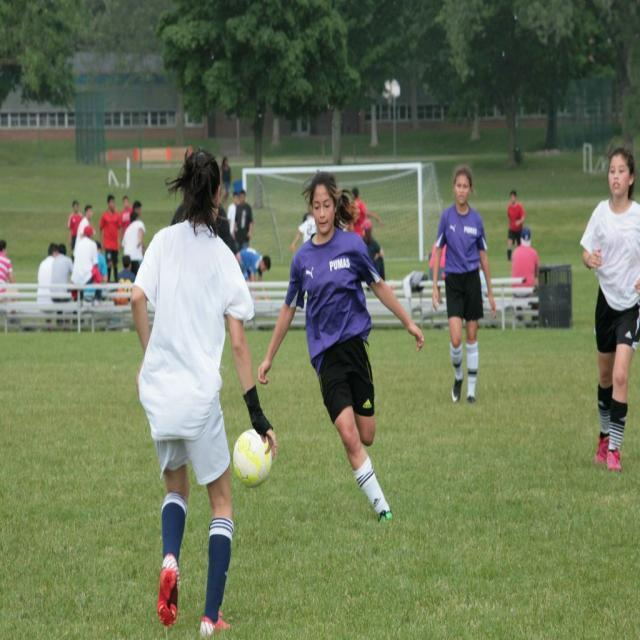football: (223, 412, 305, 488)
